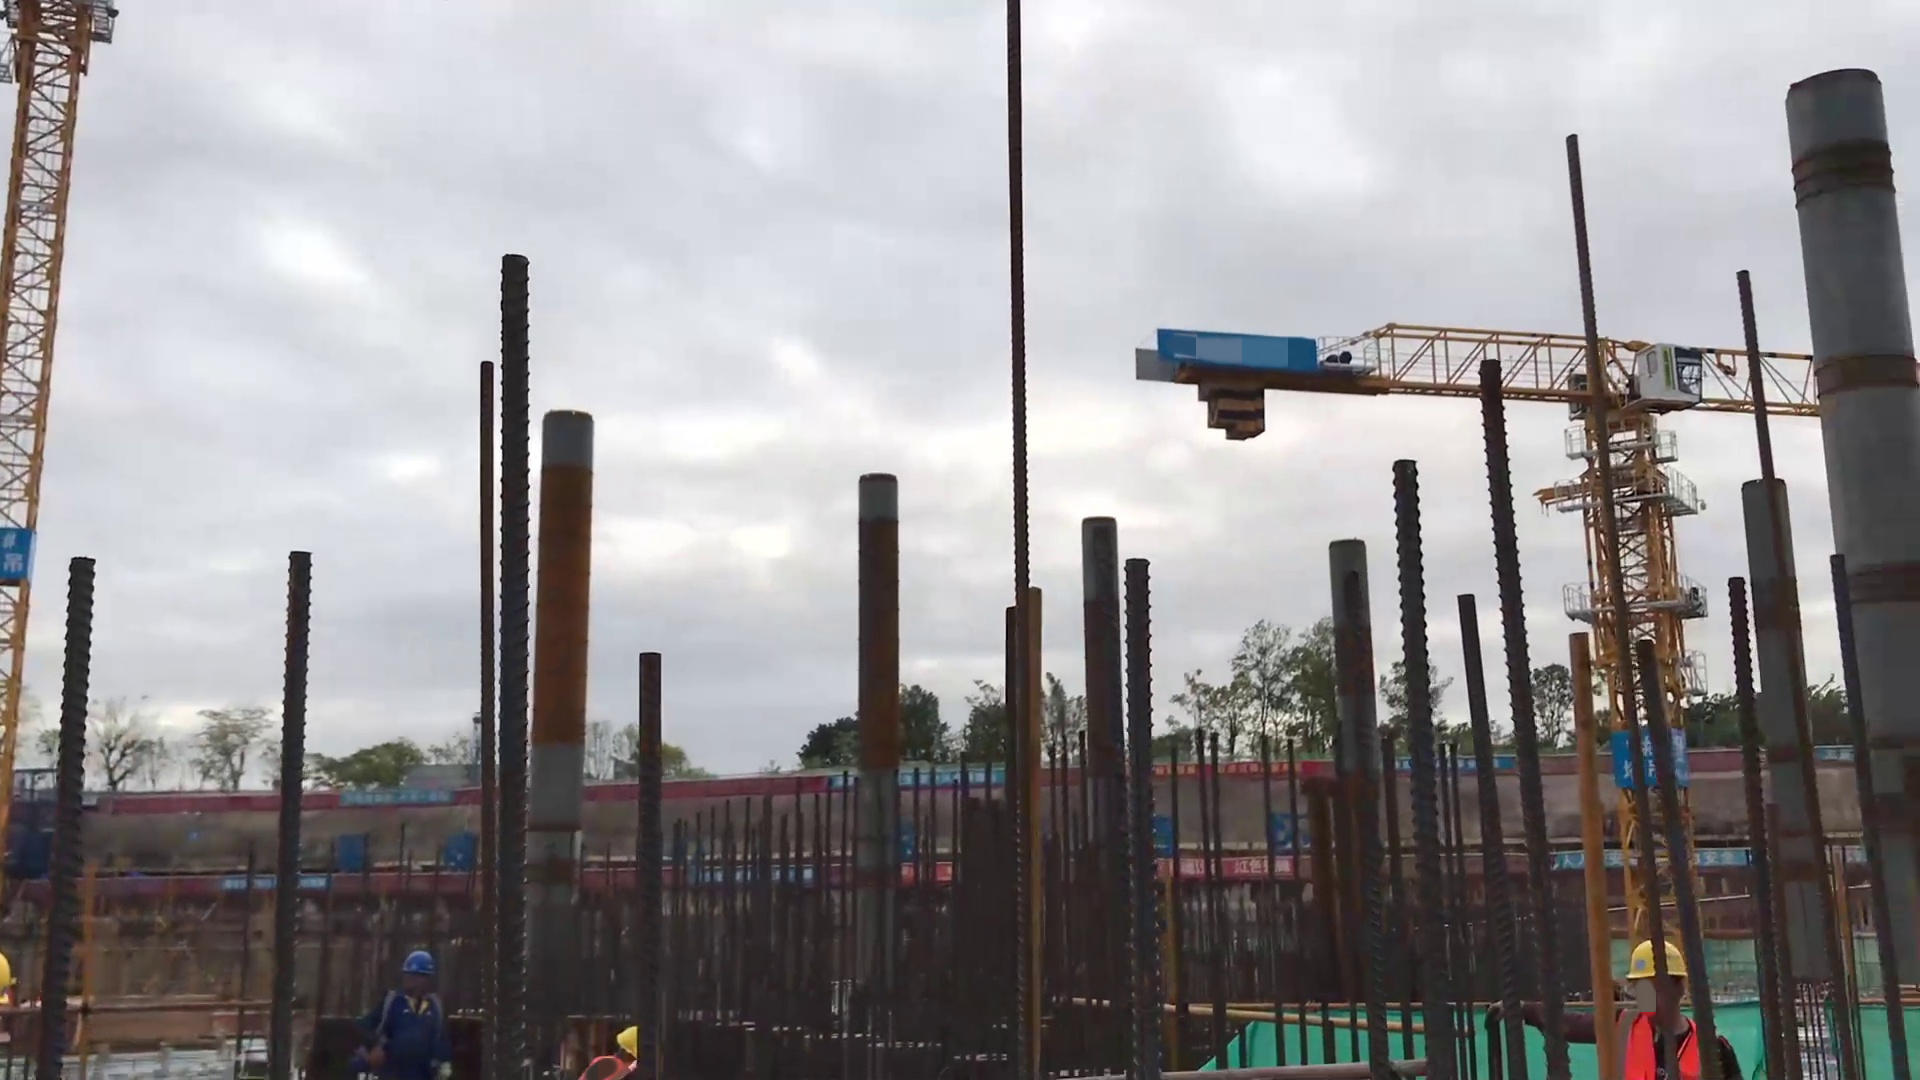helmet: (1621, 938, 1689, 986), (396, 950, 445, 977), (609, 1020, 645, 1056)
person: (1616, 940, 1712, 1080), (376, 950, 450, 1080), (582, 1019, 639, 1080)
vest: (1610, 1007, 1706, 1075)
